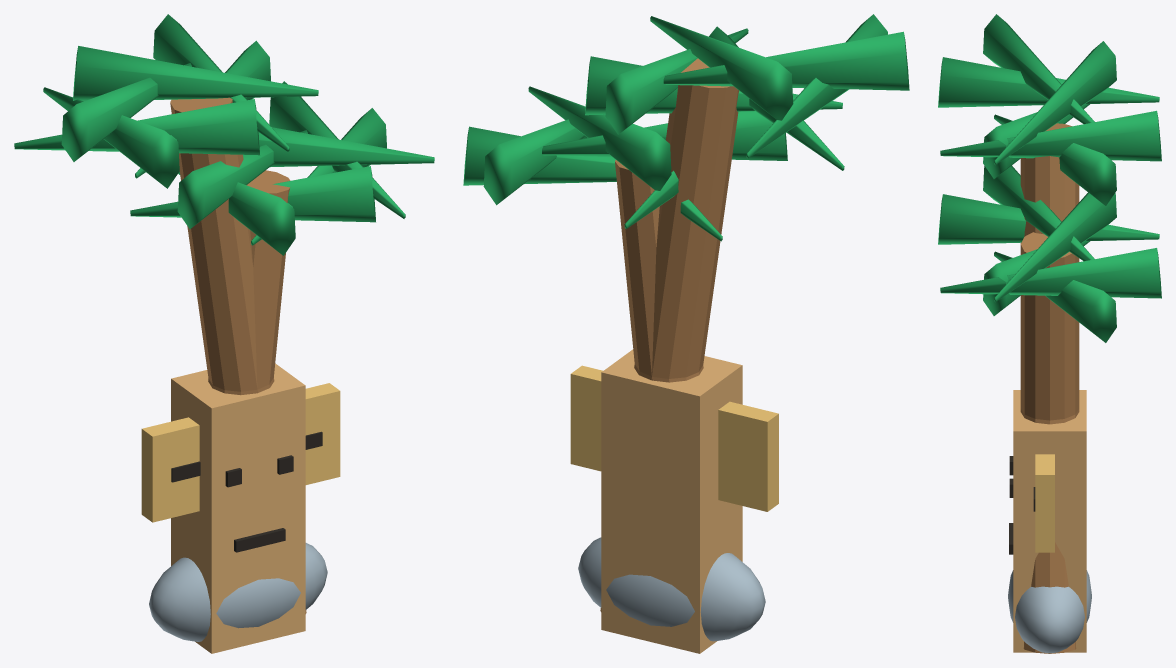
The model's file is green-hill-props.glb.
3 views of the same model, side by side, from view 1: azimuth 30°, elevation 25°; view 2: azimuth 150°, elevation 25°; view 3: azimuth 270°, elevation 25° (orthographic). The views are drawn at different scales.
Visible parts, largest first — view 1: totem body, segmented palm trunk, green hill sign board, rounded foreground rock, wide palm frond.001, wide palm frond.004, wide palm frond.010, segmented palm trunk.001, wide palm frond.002, wide palm frond.007, wide palm frond.008, wide palm frond.003 (+7 smaller); view 2: totem body, segmented palm trunk, green hill sign board, rounded foreground rock, wide palm frond.002, segmented palm trunk.001, wide palm frond.001, wide palm frond.007, wide palm frond.006, wide palm frond, wide palm frond.011, wide palm frond.008 (+4 smaller); view 3: totem body, segmented palm trunk.001, wide palm frond.006, wide palm frond, wide palm frond.003, segmented palm trunk, wide palm frond.009, rounded foreground rock, wide palm frond.001, wide palm frond.007, wide palm frond.002, wide palm frond.011 (+5 smaller).
Part boxes in pixels (bbox=[...]): totem body: bbox=[171, 363, 305, 653]; segmented palm trunk: bbox=[170, 97, 306, 613]; green hill sign board: bbox=[141, 383, 340, 522]; rounded foreground rock: bbox=[149, 543, 327, 641]; wide palm frond.001: bbox=[73, 46, 318, 101]; wide palm frond.004: bbox=[14, 99, 259, 155]; wide palm frond.010: bbox=[130, 166, 375, 222]; segmented palm trunk.001: bbox=[208, 170, 290, 395]; wide palm frond.002: bbox=[61, 63, 191, 161]; wide palm frond.007: bbox=[258, 127, 434, 167]; wide palm frond.008: bbox=[177, 130, 307, 228]; wide palm frond.003: bbox=[43, 87, 179, 188]; totem body: bbox=[601, 349, 742, 653]; segmented palm trunk: bbox=[600, 58, 739, 611]; green hill sign board: bbox=[570, 365, 778, 511]; rounded foreground rock: bbox=[578, 537, 765, 641]; wide palm frond.002: bbox=[663, 31, 909, 90]; segmented palm trunk.001: bbox=[615, 160, 703, 382]; wide palm frond.001: bbox=[650, 16, 793, 120]; wide palm frond.007: bbox=[528, 86, 671, 190]; wide palm frond.006: bbox=[483, 119, 584, 205]; wide palm frond: bbox=[605, 28, 748, 134]; wide palm frond.011: bbox=[463, 126, 616, 185]; wide palm frond.008: bbox=[542, 111, 787, 160]; totem body: bbox=[1013, 390, 1086, 652]; segmented palm trunk.001: bbox=[1020, 232, 1079, 420]; wide palm frond.006: bbox=[940, 248, 1161, 298]; wide palm frond: bbox=[940, 110, 1161, 161]; wide palm frond.003: bbox=[938, 57, 1159, 107]; segmented palm trunk: bbox=[1020, 123, 1079, 653]; wide palm frond.009: bbox=[938, 194, 1159, 244]; rounded foreground rock: bbox=[1008, 570, 1091, 653]; wide palm frond.001: bbox=[994, 41, 1116, 165]; wide palm frond.007: bbox=[994, 192, 1116, 302]; wide palm frond.002: bbox=[983, 14, 1094, 123]; wide palm frond.011: bbox=[994, 251, 1116, 342].
Bounding box in the file's own units: 15.94 × 24.46 × 9.17.
